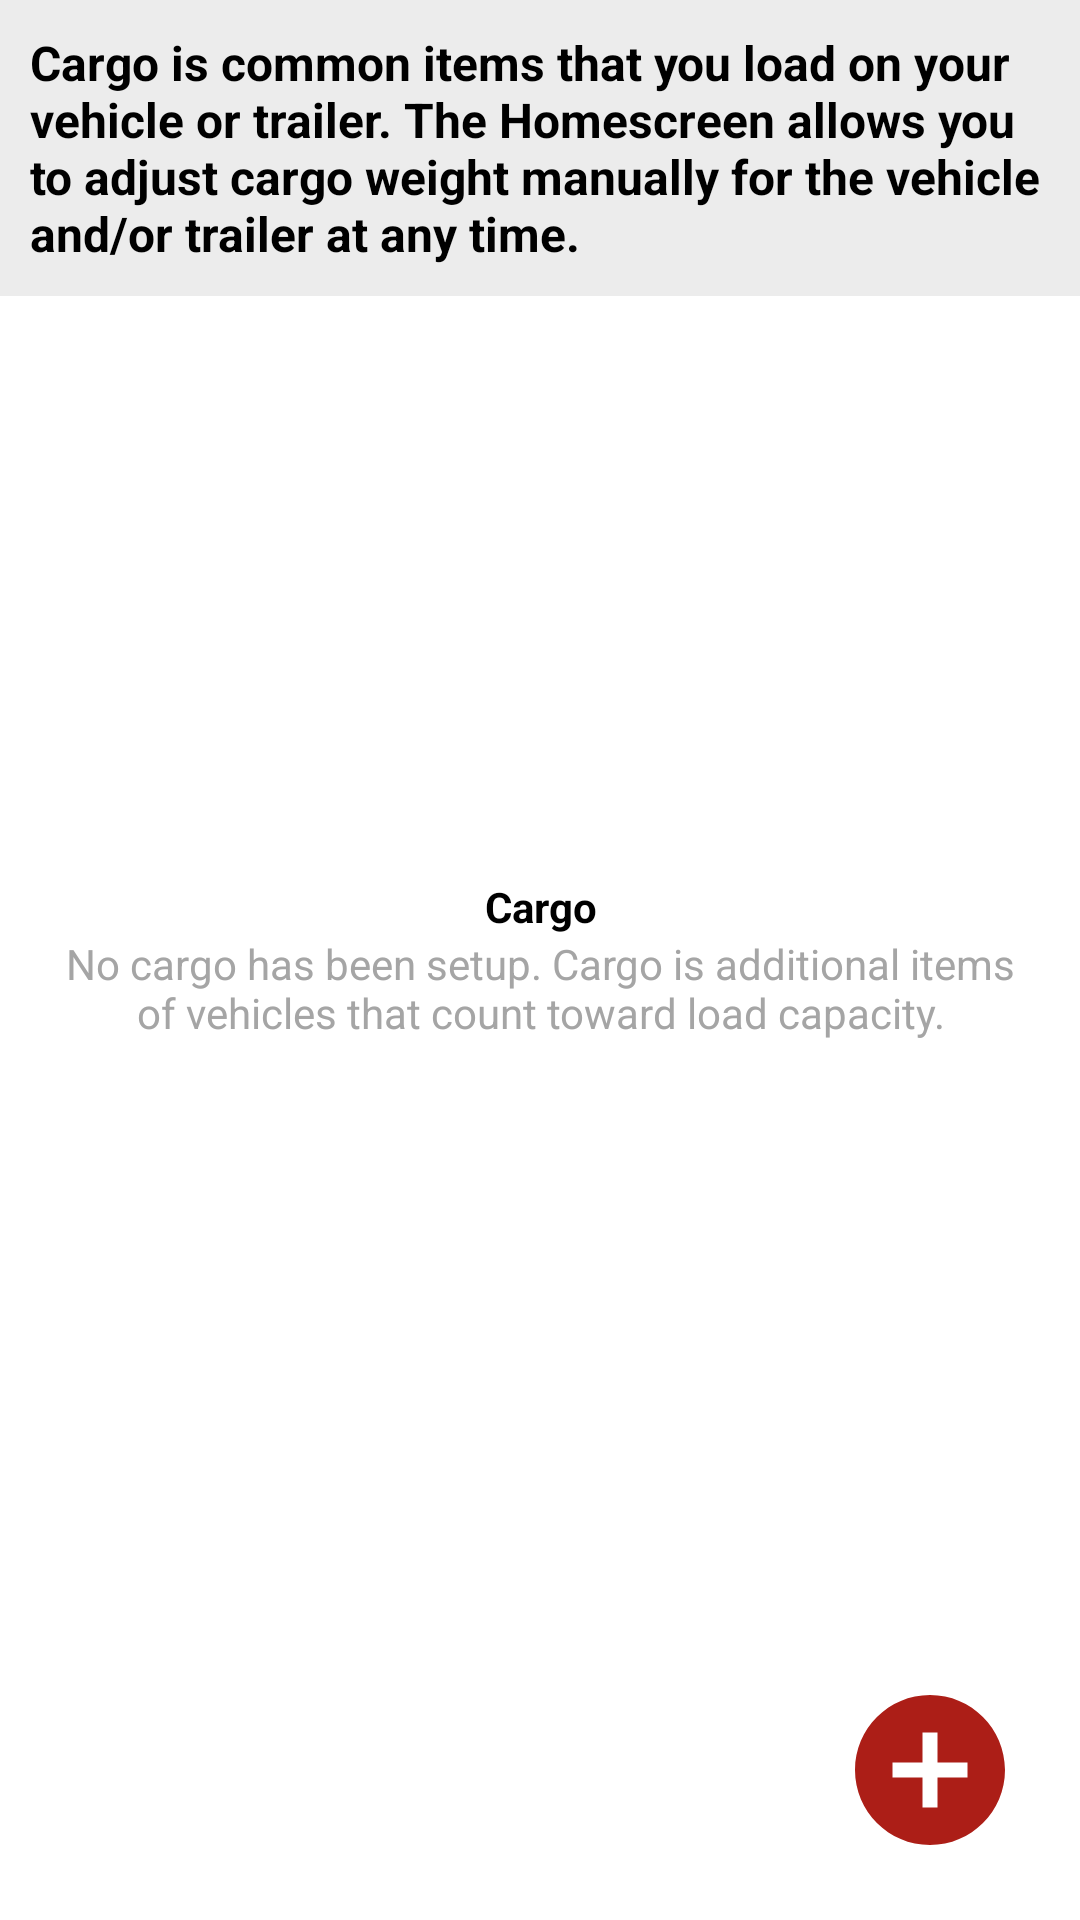

Point at icon controls on the screen. Image size 1080x1920, points as [x,y].
add circle: [930,1770]
